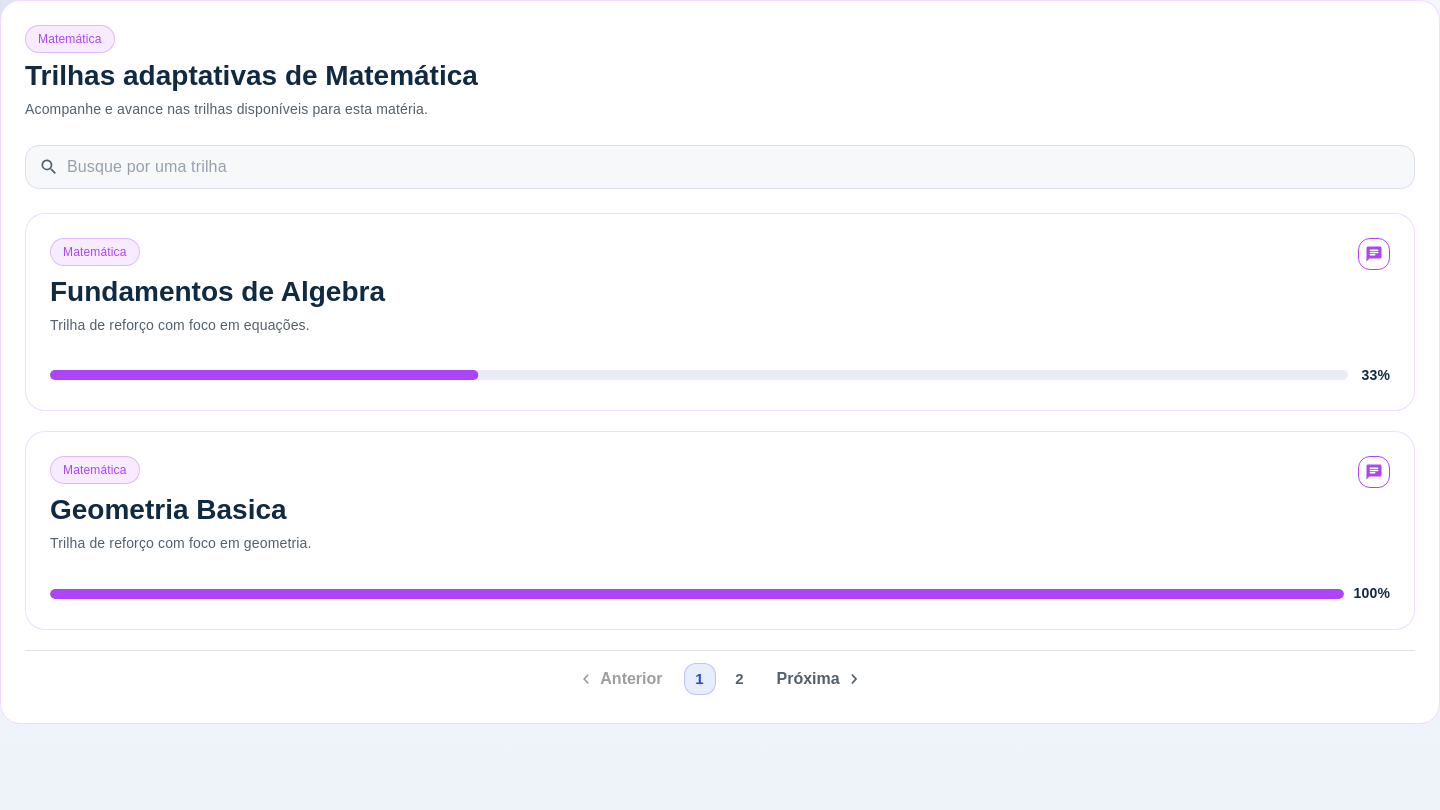
Test: StudentAdaptiveTrailDetailPage paginates same-subject trail cards in groups
Expected: the heading "Fundamentos de Algebra" is shown, 50,276 -> 385,307
Expected: the heading "Geometria Basica" is shown, 50,494 -> 287,525
Step 1. Click the button named "go to page 2" → (740, 679), box 724,663 -> 756,695
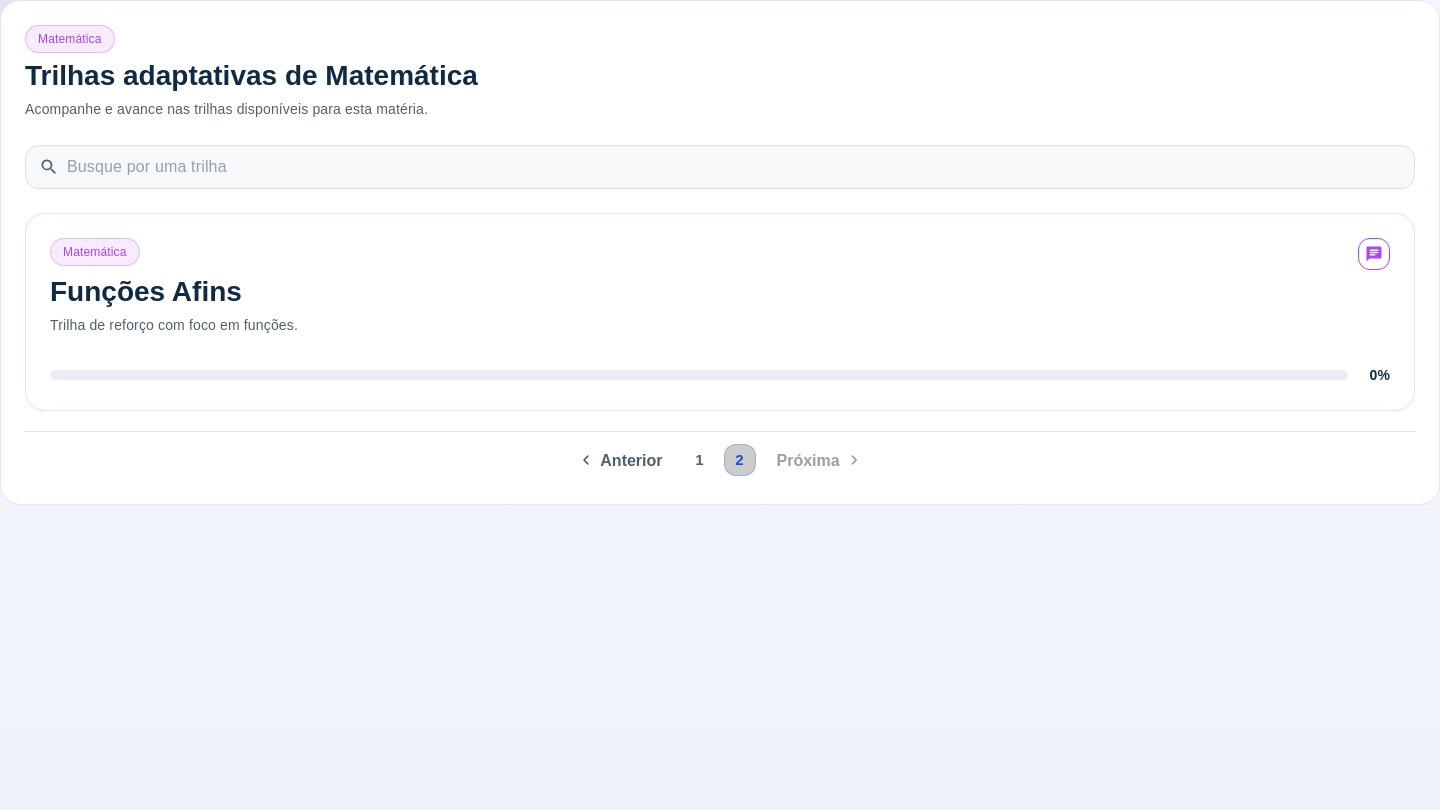
Expected: the heading "Funções Afins" is shown, 50,276 -> 242,307
Expected: the button "Fundamentos de Algebra" is gone
